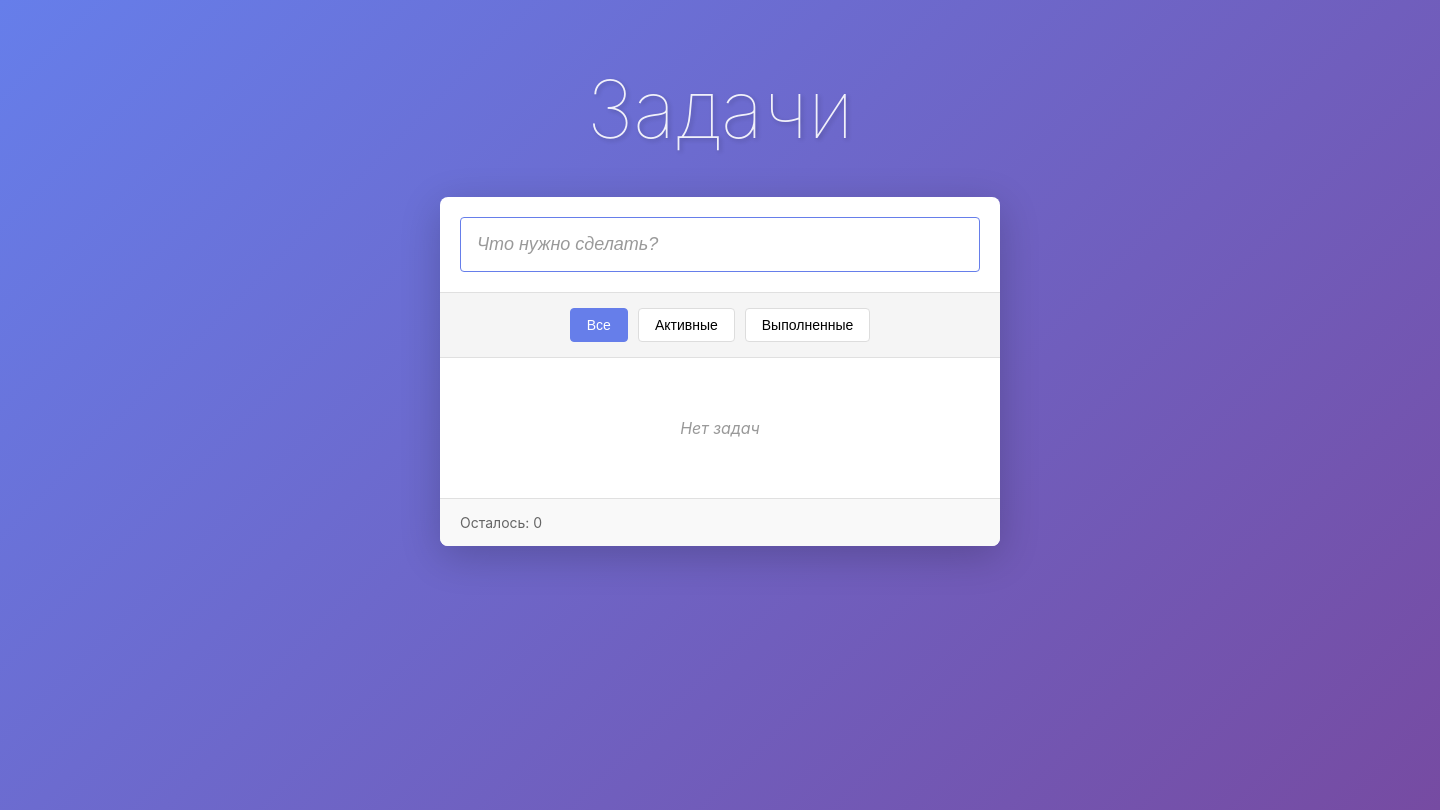
Scenario: Тесты приложения › добавляет новую задачу
Type "Новая задача" into the field with placeholder "Что нужно сделать?" at (720, 244), box [460, 217, 980, 272]
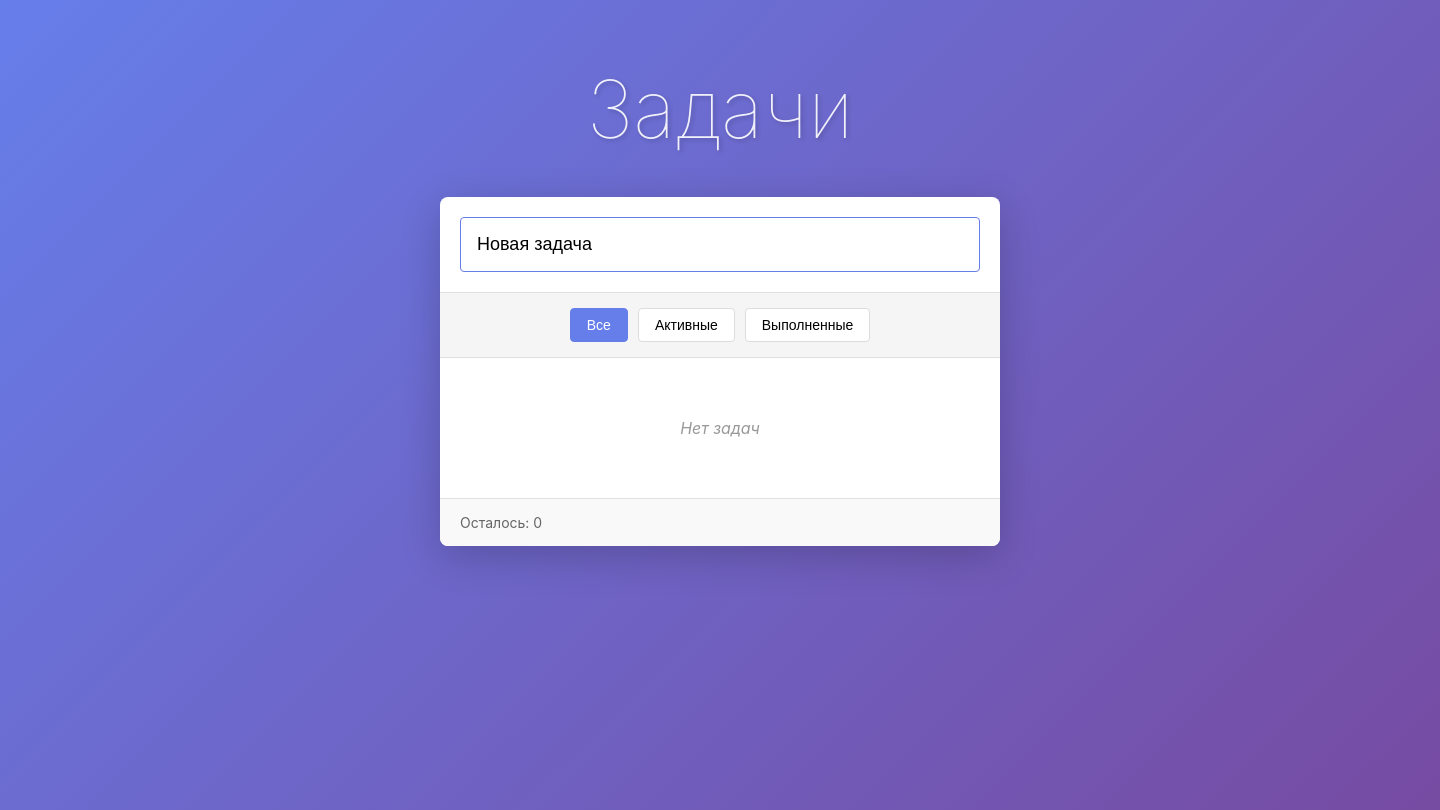
Press Enter in the field with placeholder "Что нужно сделать?", box [460, 217, 980, 272]
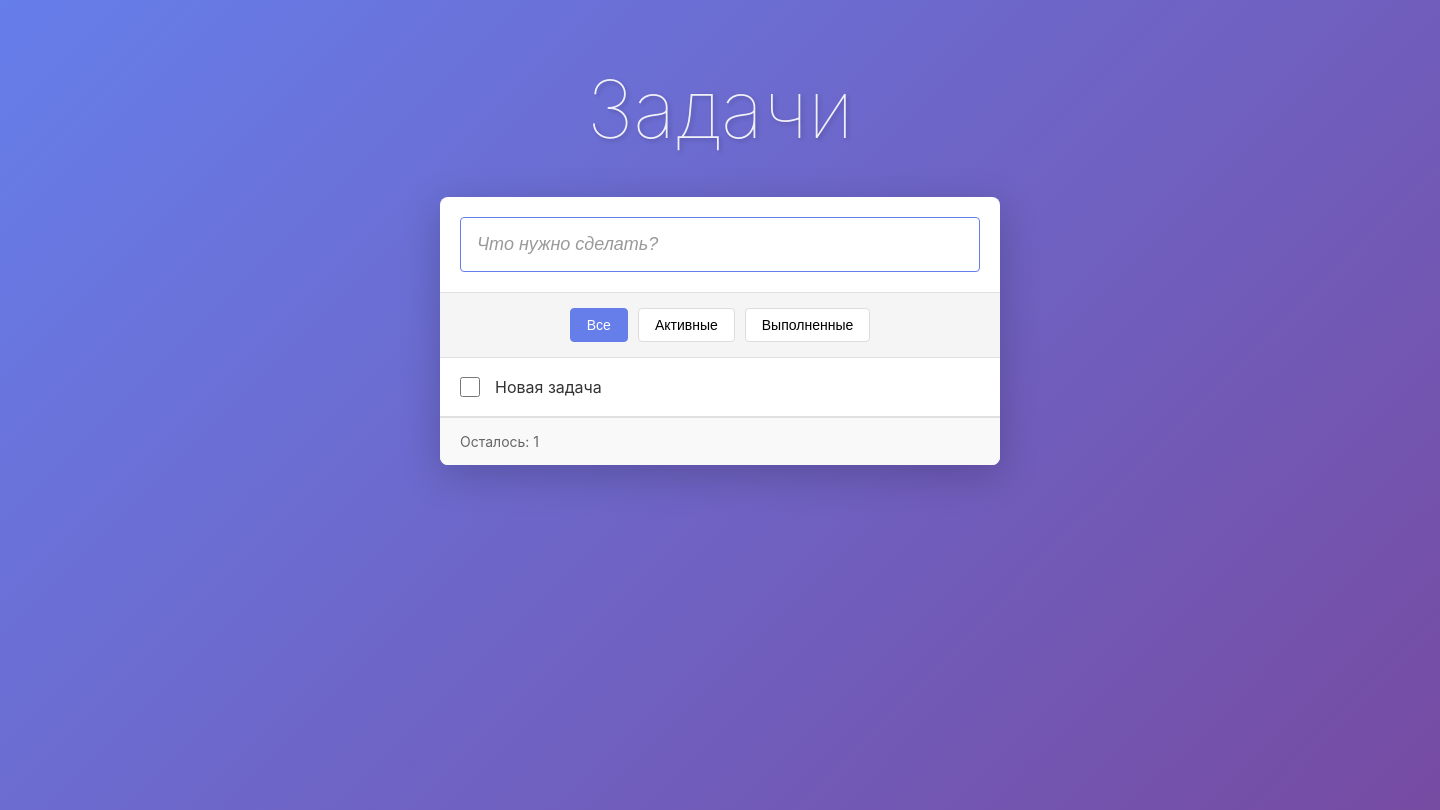
Expected: the text "Новая задача" is shown, [495, 377, 602, 397]
Expected: the field with placeholder "Что нужно сделать?" is empty, [460, 217, 980, 272]
